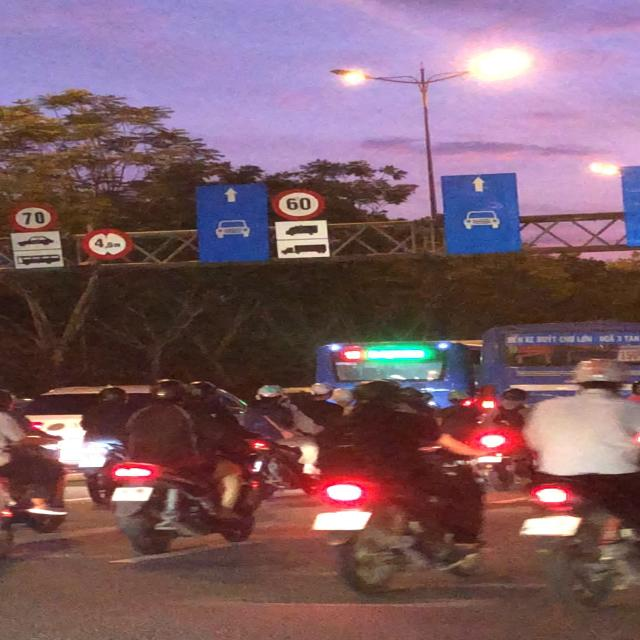Bien bao han che chieu cao: (82, 228, 134, 260)
Bien bao toc do toi da cho phep: (270, 184, 336, 222), (5, 200, 68, 238)
